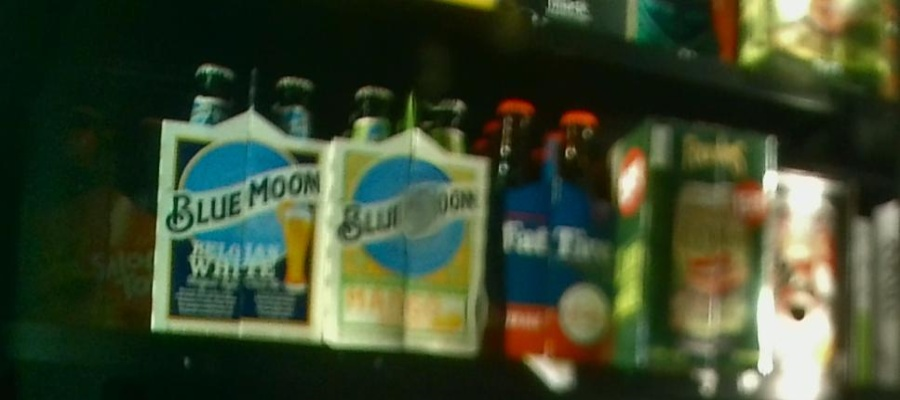bottle: (156, 53, 321, 342), (323, 77, 486, 355), (611, 114, 772, 358), (489, 96, 615, 358)
